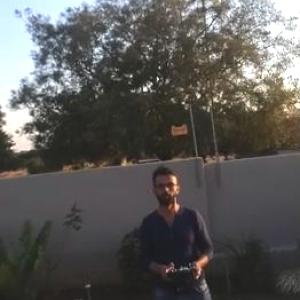follow: (132, 159, 220, 299)
